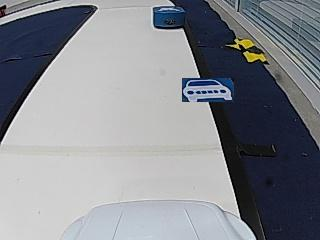prop: (153, 6, 185, 29)
